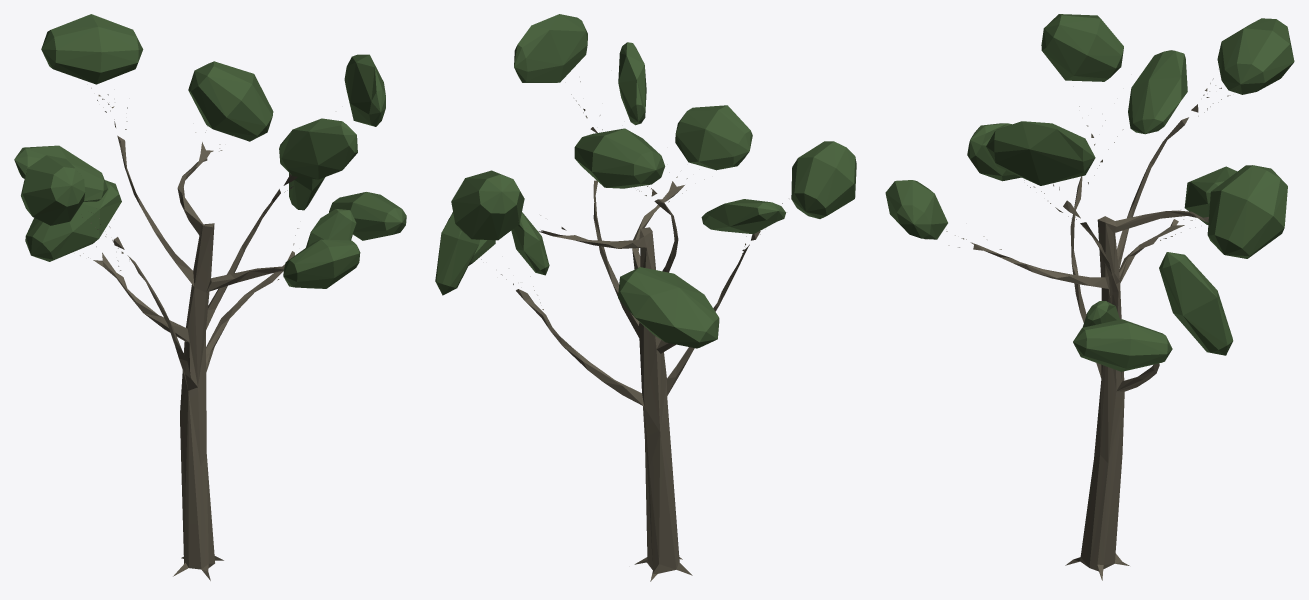
Rendered from CheneVert_0_Niveau2.fbx.
3 renders of one model, left to right at view 1: azimuth 30°, elevation 25°; view 2: azimuth 150°, elevation 25°; view 3: azimuth 270°, elevation 25°, orthographic. The views are drawn at different scales.
Visible parts, largest first — view 1: CheneVert_0_Niveau2_Jeu; view 2: CheneVert_0_Niveau2_Jeu; view 3: CheneVert_0_Niveau2_Jeu.
Boxes of the visible parts, bbox=[...] form: CheneVert_0_Niveau2_Jeu: bbox=[14, 14, 406, 580]; CheneVert_0_Niveau2_Jeu: bbox=[435, 14, 856, 581]; CheneVert_0_Niveau2_Jeu: bbox=[885, 14, 1294, 580].
Size of the model in its own units: 291 by 361 by 254.
